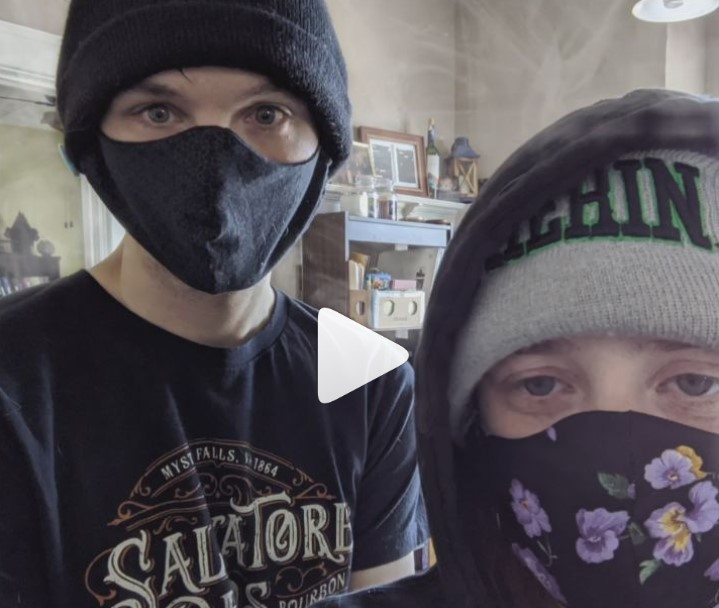face_with_mask: (418, 89, 719, 608), (56, 3, 342, 298)
